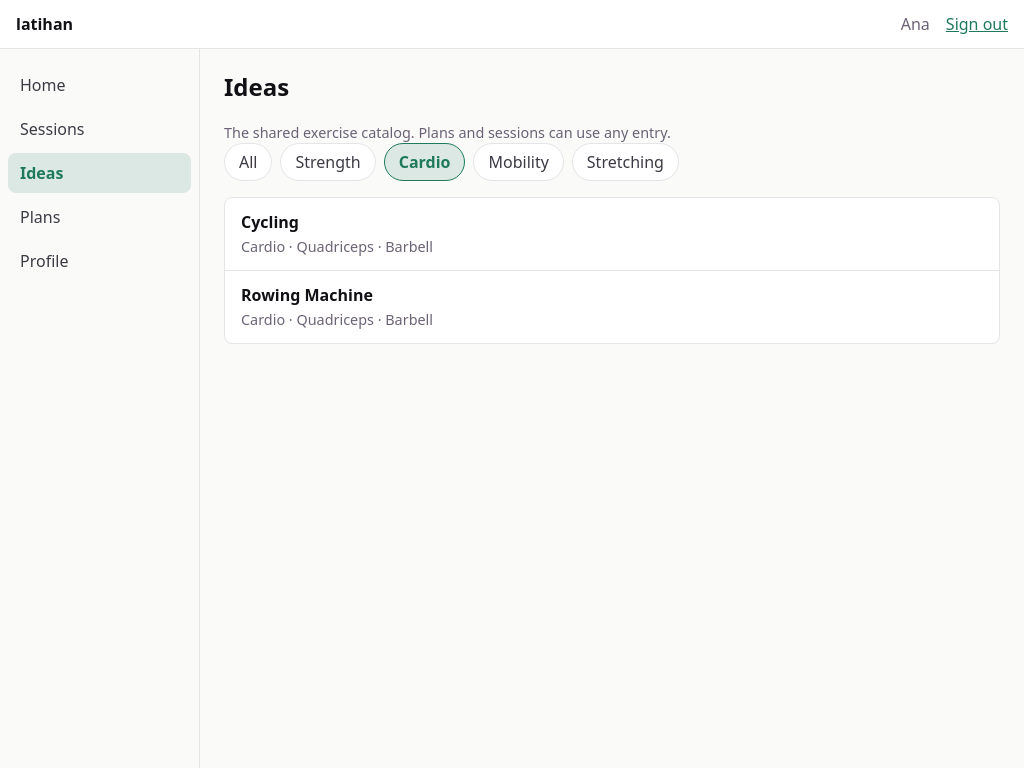
the Ideas page › closes the drawer with Escape, back to the list it came from
Click the button with aria-label "Show Cycling" at {"x": 270, "y": 222}, box [225,198,999,270]
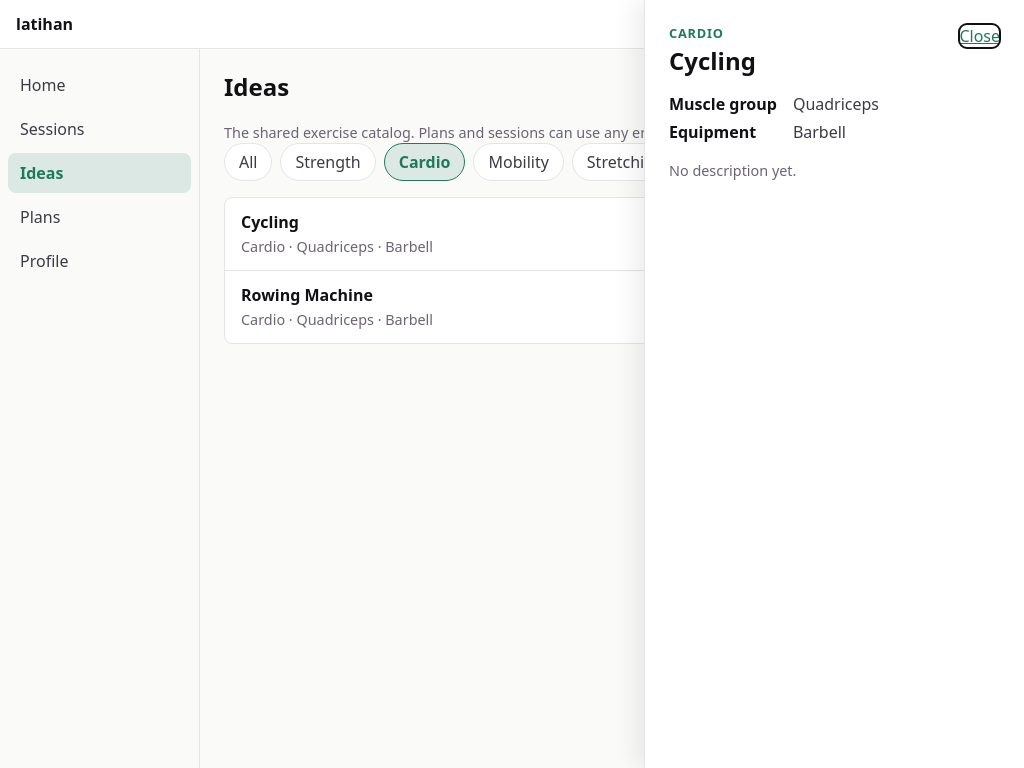
Press Escape
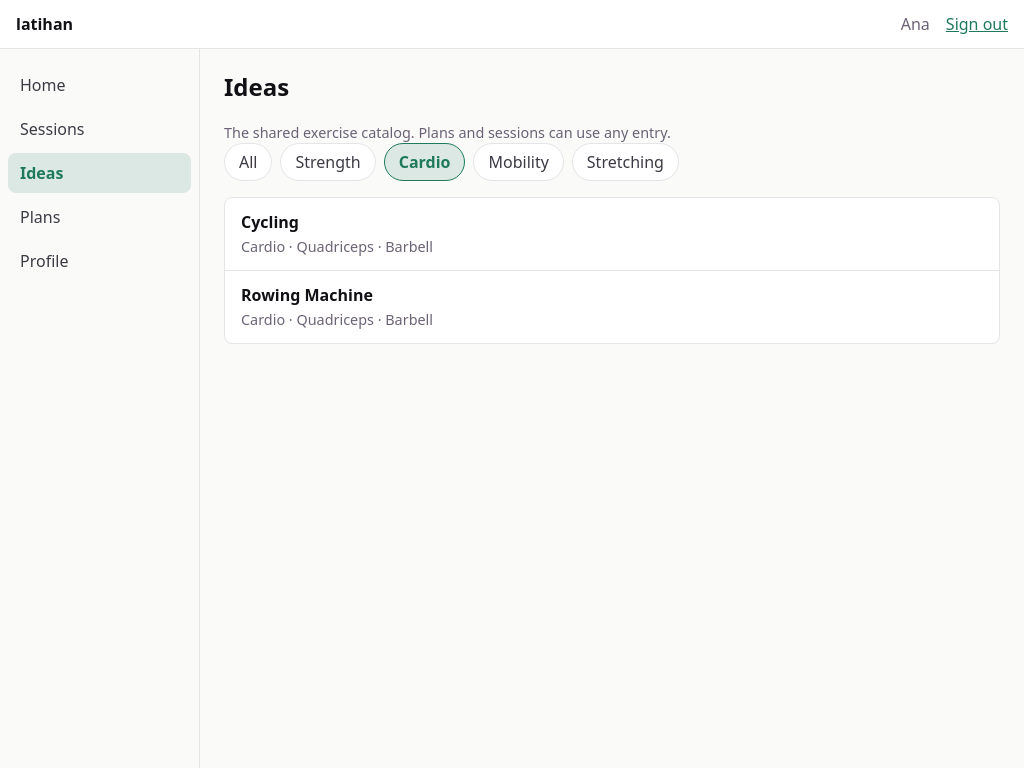
Expected: the dialog is gone
